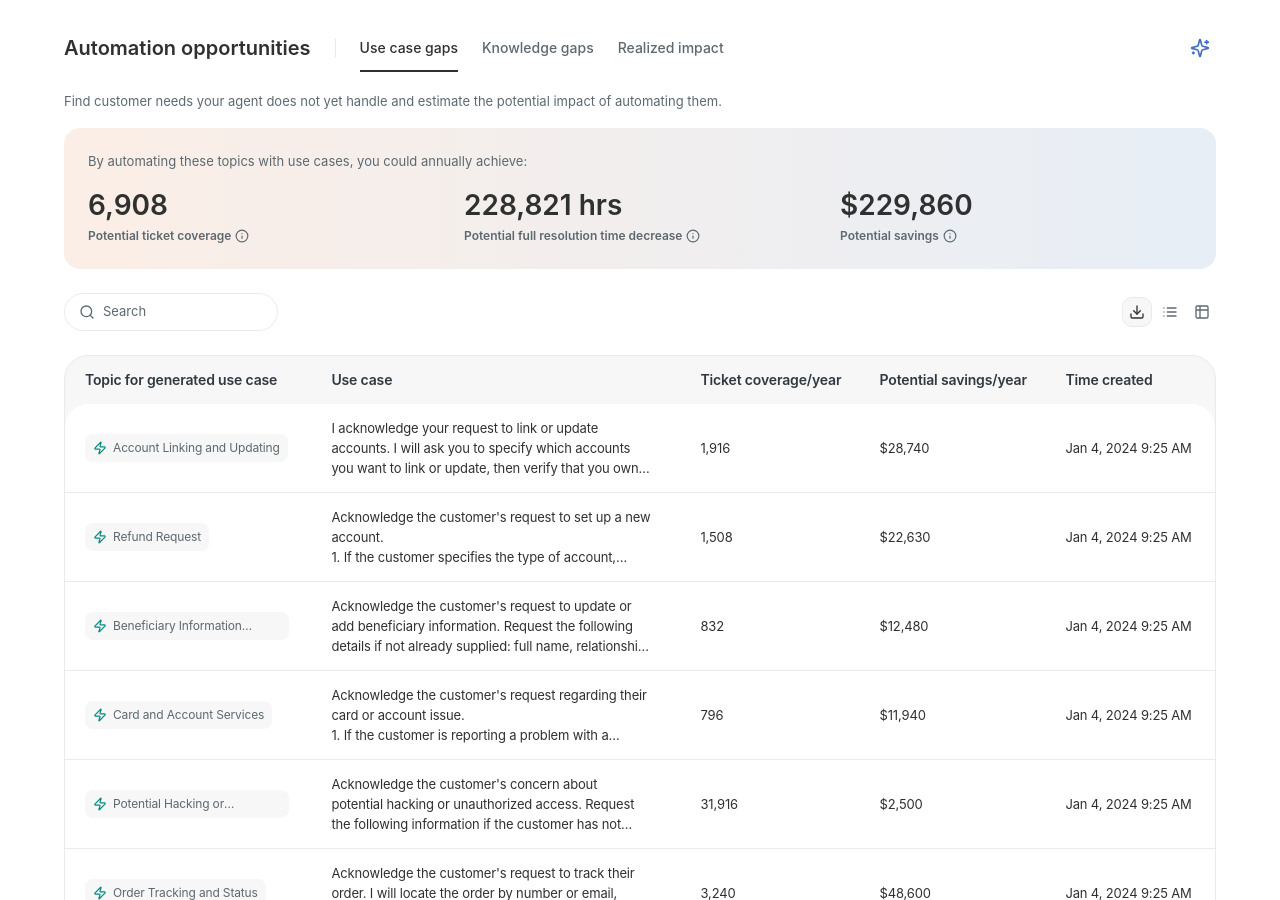
AutomationsScreen › switches among every Figma view
The image size is (1280, 900).
Click the tab "Knowledge gaps": (538, 54) [482, 36, 594, 72]
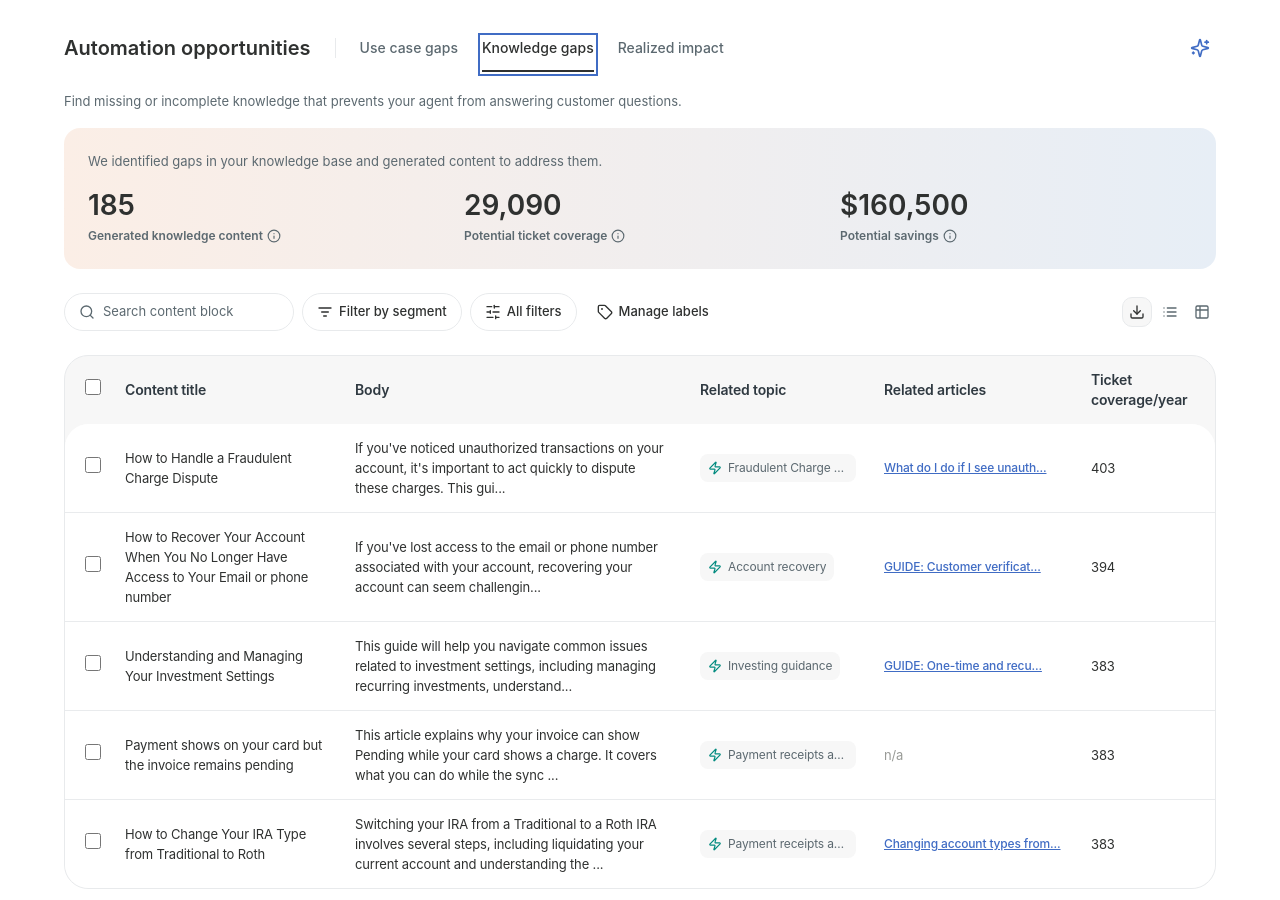
Check: the text "29,090" is shown, box [464, 188, 562, 222]
Click the tab "Use case gaps": (409, 54) [360, 36, 458, 72]
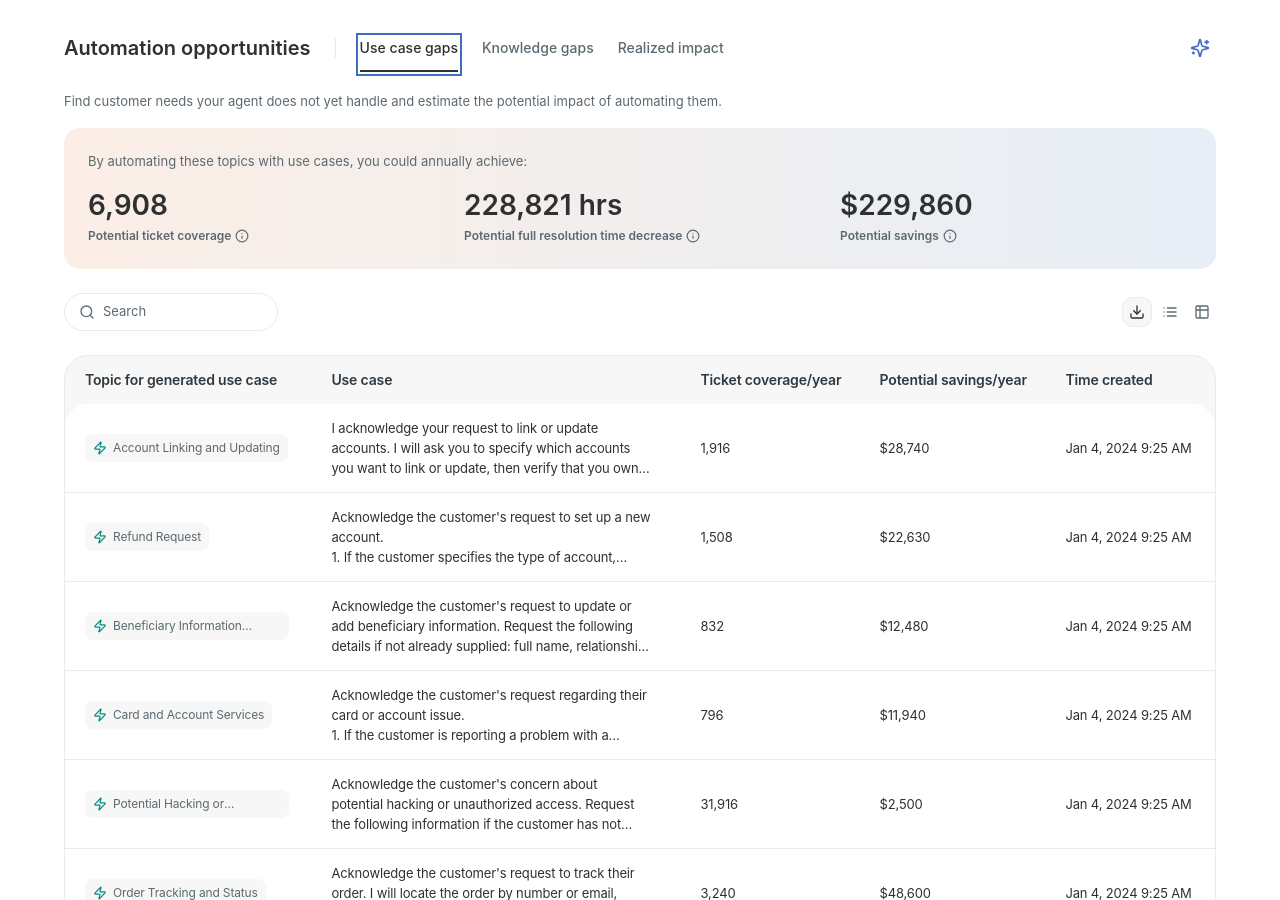
Check: the text "6,908" is shown, box [88, 188, 168, 222]
Click the tab "Realized impact": (671, 54) [618, 36, 724, 72]
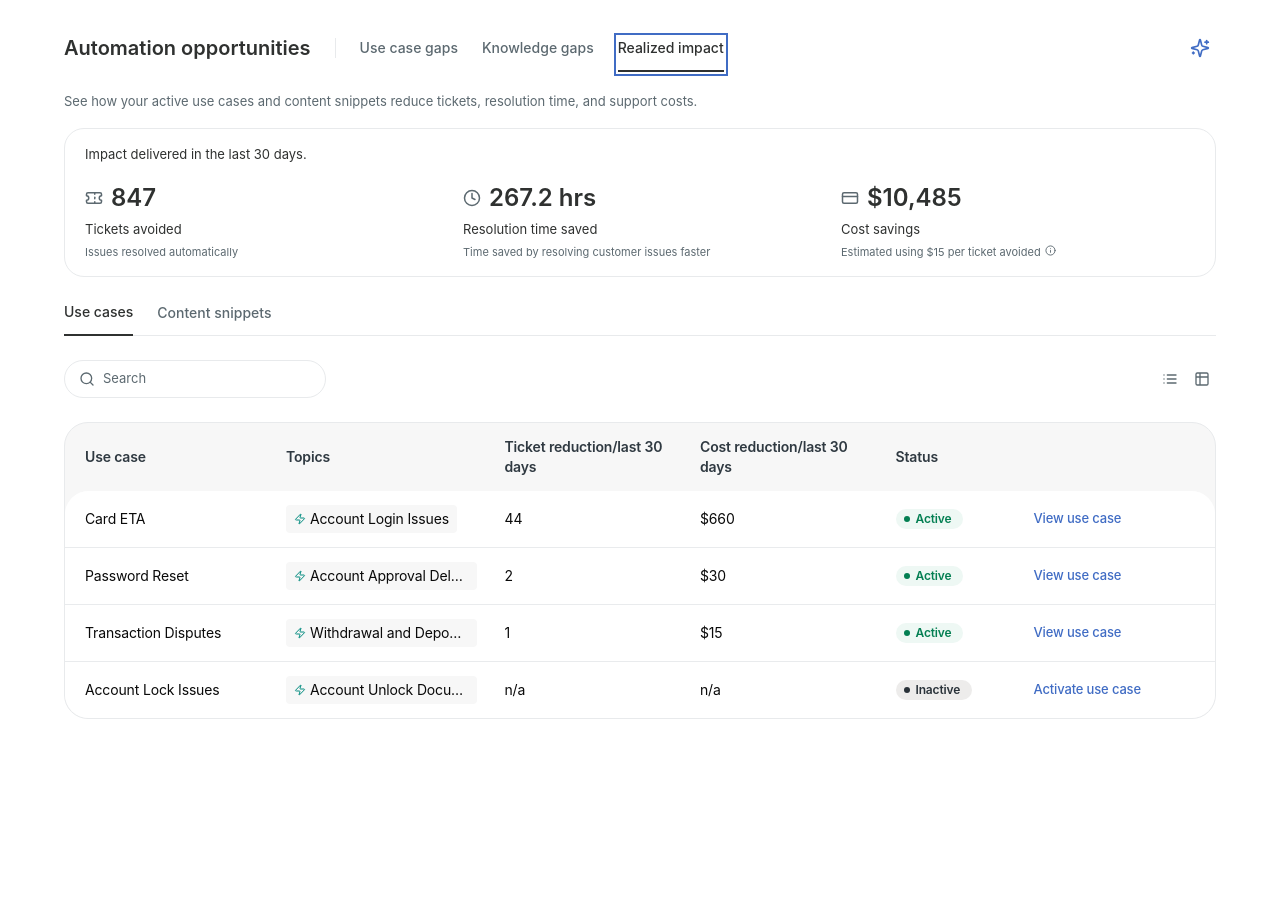
Check: the text "Card ETA" is shown, box [65, 490, 272, 548]
